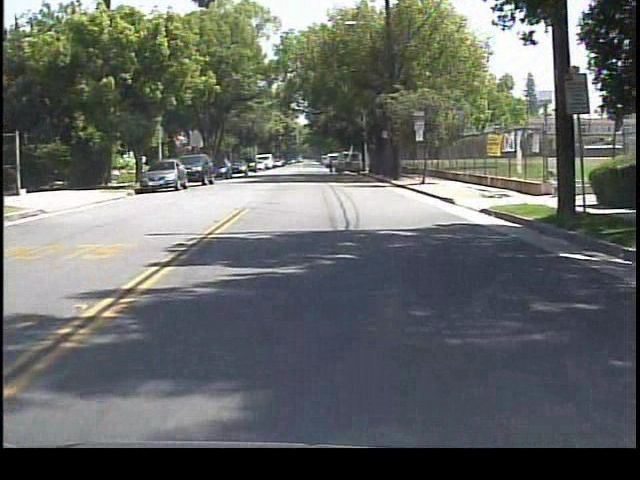person: (323, 152, 338, 178)
